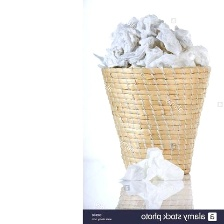tissue: (88, 7, 215, 75), (114, 141, 190, 187)
